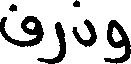ذ: (70, 0, 95, 48)
ر: (42, 20, 65, 63)
ف: (0, 1, 44, 62)
و: (100, 17, 128, 62)
